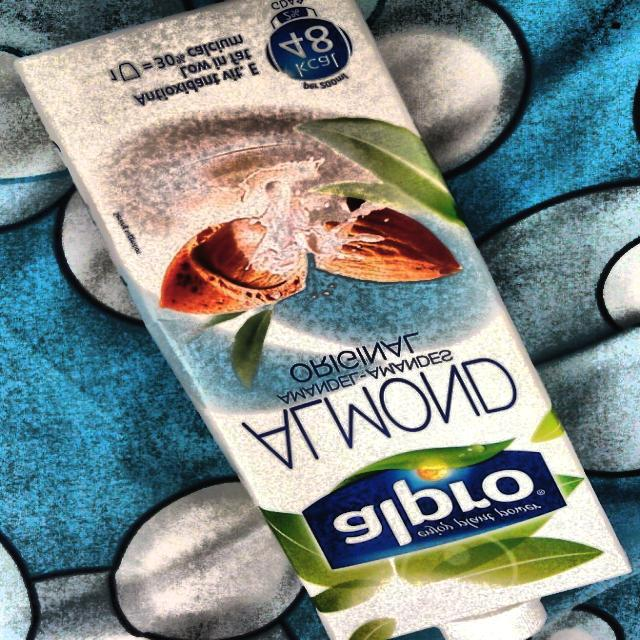cardboard: (12, 0, 632, 640)
